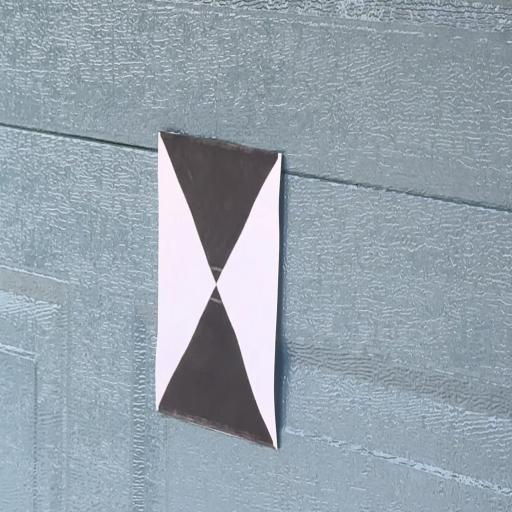target: (156, 133, 283, 449)
